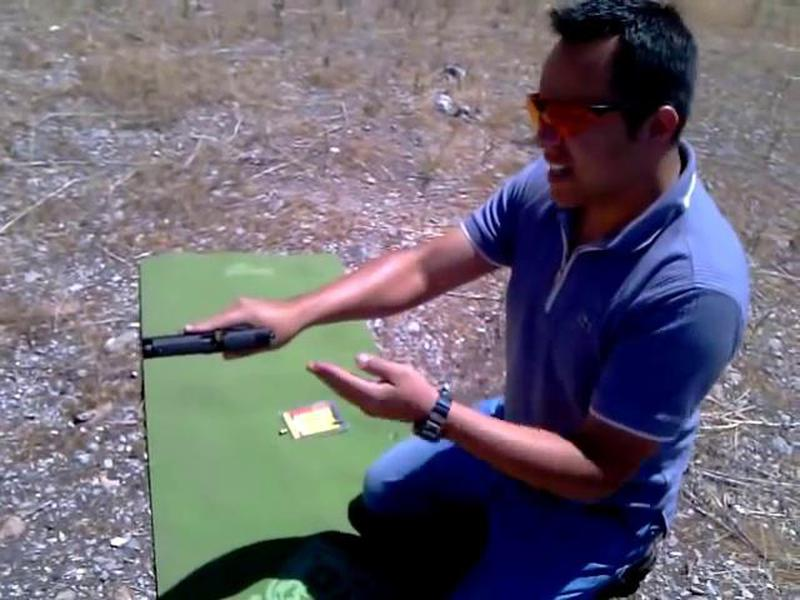Pistola: (129, 306, 288, 371)
